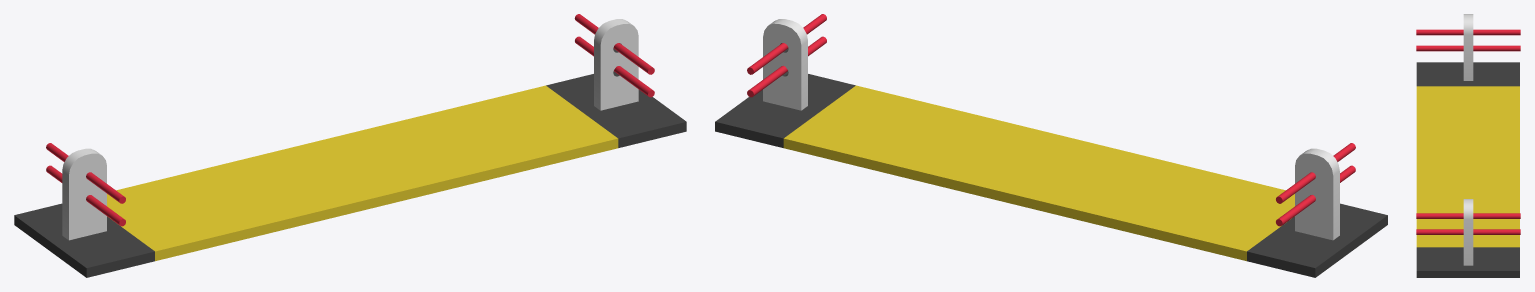
The model's file is tracks (1).fbx.
The picture shows the model from 3 angles, left to right: view 1: azimuth 30°, elevation 25°; view 2: azimuth 150°, elevation 25°; view 3: azimuth 270°, elevation 25°; orthographic projection. The views are drawn at different scales.
Visible parts, largest first — view 1: Cube, Cube.001, NurbsPath, NurbsPath.001; view 2: Cube, Cube.001, NurbsPath, NurbsPath.001; view 3: Cube, Cube.001, NurbsPath, NurbsPath.001.
Boxes of the visible parts, <box> form: Cube: <box>107,85,618,261</box>; Cube.001: <box>14,19,686,277</box>; NurbsPath: <box>46,14,654,203</box>; NurbsPath.001: <box>46,36,654,226</box>; Cube: <box>783,85,1294,261</box>; Cube.001: <box>715,19,1387,277</box>; NurbsPath: <box>747,14,1355,203</box>; NurbsPath.001: <box>747,36,1355,226</box>; Cube: <box>1416,86,1519,247</box>; Cube.001: <box>1416,14,1519,277</box>; NurbsPath: <box>1416,29,1520,218</box>; NurbsPath.001: <box>1416,45,1520,234</box>.
Bounding box in the file's own units: 345 × 49.89 × 72.74.
